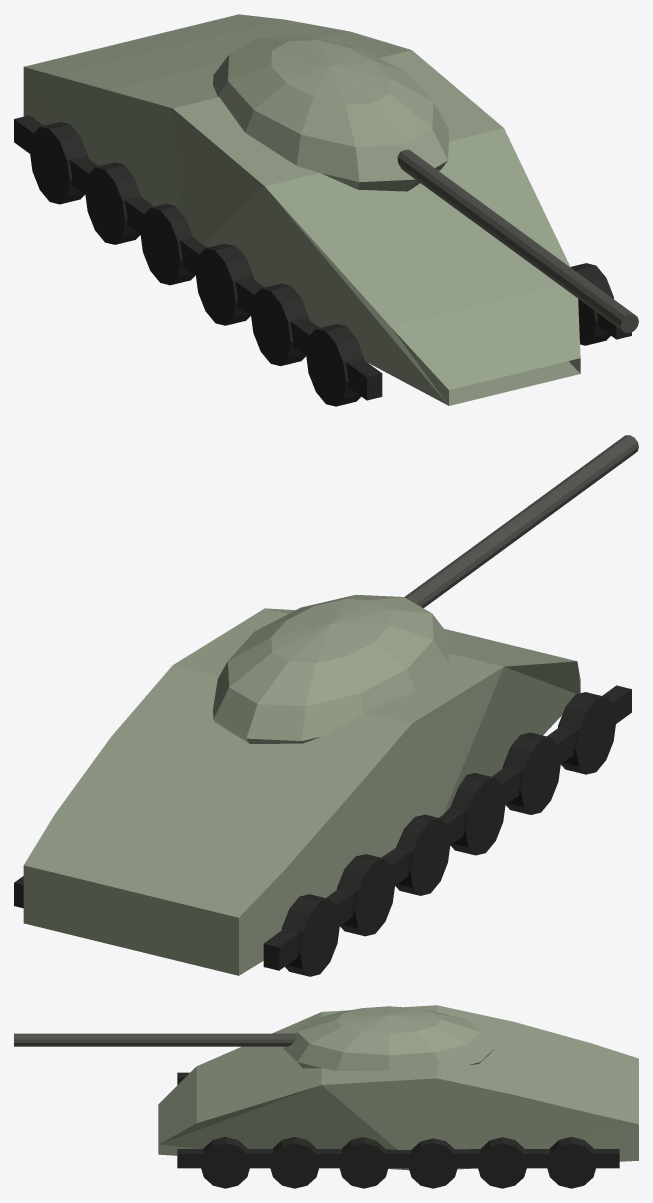
File: stryker.glb
3 renders of one model, top to bottom at view 1: azimuth 30°, elevation 25°; view 2: azimuth 150°, elevation 25°; view 3: azimuth 270°, elevation 25°, orthographic. The views are drawn at different scales.
Parts seen in each view (by area): view 1: Hull, Turret, Gun, Track_L, Wheel_L_06, Wheel_L_01, Wheel_L_02, Wheel_L_03, Wheel_L_05, Wheel_L_04, Wheel_R_01; view 2: Hull, Turret, Gun, Track_L, Wheel_L_01, Wheel_L_06, Wheel_L_02, Wheel_L_05, Wheel_L_03, Wheel_L_04; view 3: Hull, Turret, Gun, Track_R, Wheel_R_01, Wheel_R_06, Wheel_R_02, Wheel_R_05, Wheel_R_03, Wheel_R_04.
Boxes of the visible parts, x1=… form: Hull: x1=23, y1=14, x2=580, y2=405; Turret: x1=213, y1=36, x2=448, y2=191; Gun: x1=397, y1=149, x2=638, y2=333; Track_L: x1=14, y1=115, x2=382, y2=400; Wheel_L_06: x1=29, y1=122, x2=88, y2=204; Wheel_L_01: x1=306, y1=324, x2=364, y2=406; Wheel_L_02: x1=250, y1=283, x2=309, y2=366; Wheel_L_03: x1=195, y1=244, x2=253, y2=325; Wheel_L_05: x1=85, y1=162, x2=140, y2=244; Wheel_L_04: x1=140, y1=203, x2=195, y2=285; Wheel_R_01: x1=570, y1=263, x2=613, y2=345; Hull: x1=23, y1=608, x2=580, y2=975; Turret: x1=213, y1=595, x2=448, y2=743; Gun: x1=404, y1=435, x2=638, y2=608; Track_L: x1=263, y1=685, x2=631, y2=970; Wheel_L_01: x1=558, y1=692, x2=616, y2=774; Wheel_L_06: x1=281, y1=894, x2=340, y2=976; Wheel_L_02: x1=502, y1=732, x2=560, y2=814; Wheel_L_05: x1=337, y1=854, x2=395, y2=936; Wheel_L_03: x1=450, y1=773, x2=505, y2=855; Wheel_L_04: x1=395, y1=814, x2=450, y2=895; Hull: x1=158, y1=1005, x2=638, y2=1170; Turret: x1=283, y1=1006, x2=494, y2=1070; Gun: x1=14, y1=1033, x2=295, y2=1046; Track_R: x1=177, y1=1149, x2=619, y2=1168; Wheel_R_01: x1=200, y1=1137, x2=250, y2=1188; Wheel_R_06: x1=546, y1=1137, x2=596, y2=1188; Wheel_R_02: x1=269, y1=1137, x2=319, y2=1188; Wheel_R_05: x1=477, y1=1137, x2=527, y2=1188; Wheel_R_03: x1=339, y1=1137, x2=388, y2=1188; Wheel_R_04: x1=408, y1=1138, x2=458, y2=1188.
Bounding box in the file's own units: 2.83 × 2.11 × 9.03.
